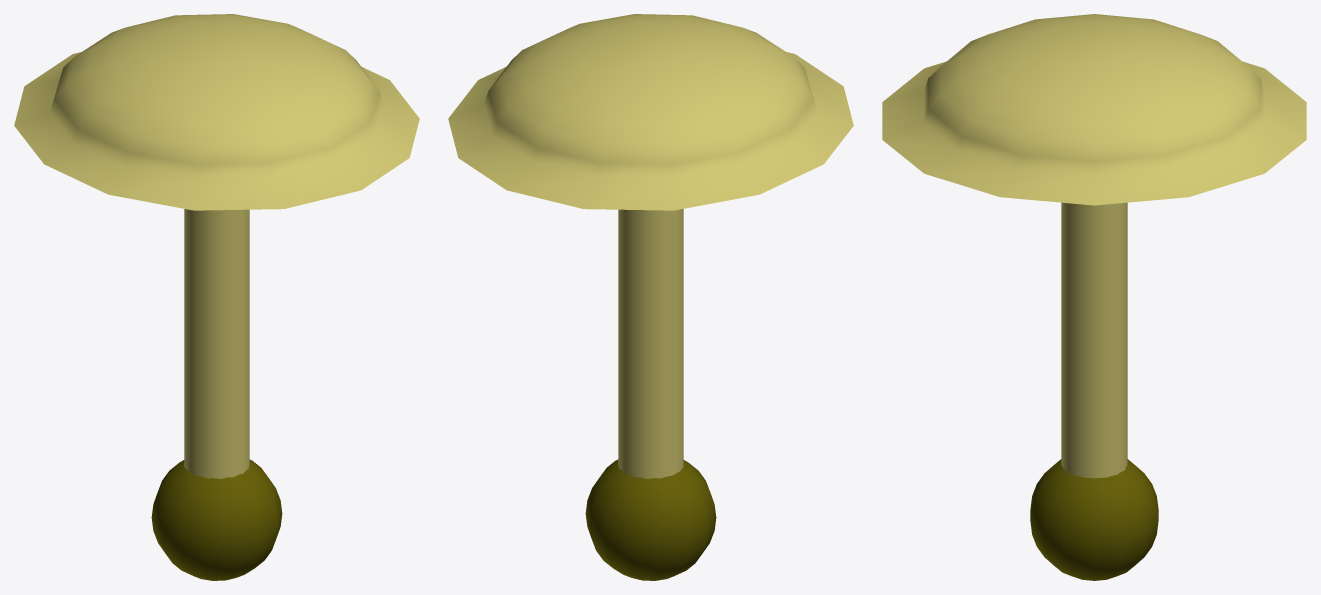
Rendered from mushroom2.fbx.
3 views of the same model, side by side, from view 1: azimuth 30°, elevation 25°; view 2: azimuth 150°, elevation 25°; view 3: azimuth 270°, elevation 25° (orthographic).
Visible parts, largest first — view 1: MushroomTip, MushroomStalk, MushroomStalkBase; view 2: MushroomTip, MushroomStalk, MushroomStalkBase; view 3: MushroomTip, MushroomStalk, MushroomStalkBase.
Boxes of the visible parts, box(x1,y1,x2,y2) form: MushroomTip: box(14, 14, 419, 210); MushroomStalk: box(184, 209, 249, 478); MushroomStalkBase: box(151, 459, 282, 580); MushroomTip: box(448, 14, 853, 210); MushroomStalk: box(618, 209, 683, 478); MushroomStalkBase: box(585, 459, 716, 580); MushroomTip: box(882, 14, 1306, 205); MushroomStalk: box(1061, 202, 1127, 478); MushroomStalkBase: box(1030, 459, 1158, 580).
Size of the model in its own units: 2.55 by 3.72 by 2.71.
